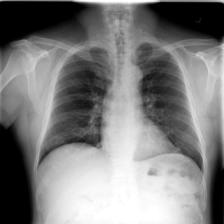normal: (31, 38, 208, 190)
